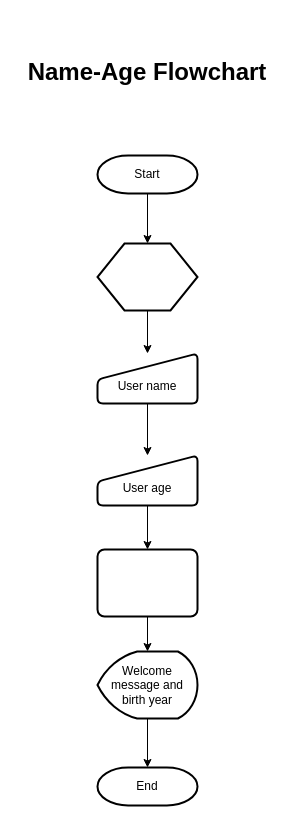
This 294x823 diagram has some shape labels left out. Each missing label, with the centre of its shape:
Calculate birth year: point 147,582
Initialize current year: point 147,276
